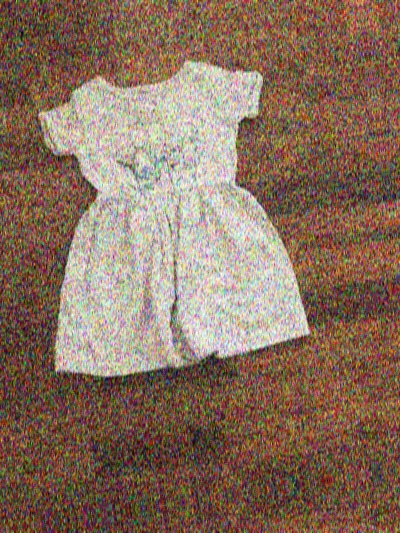Dress: (0, 15, 367, 405)
